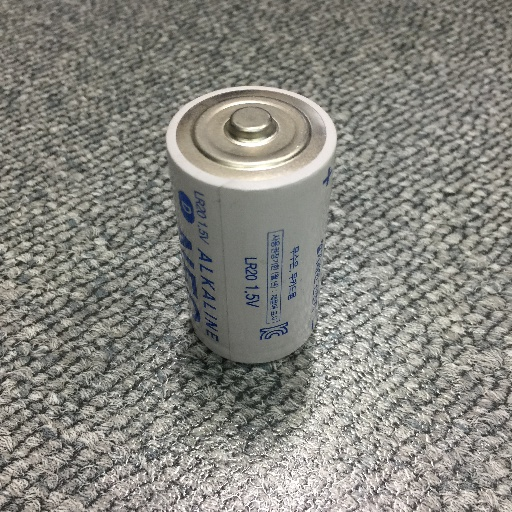Battery_0: (161, 76, 342, 375)
